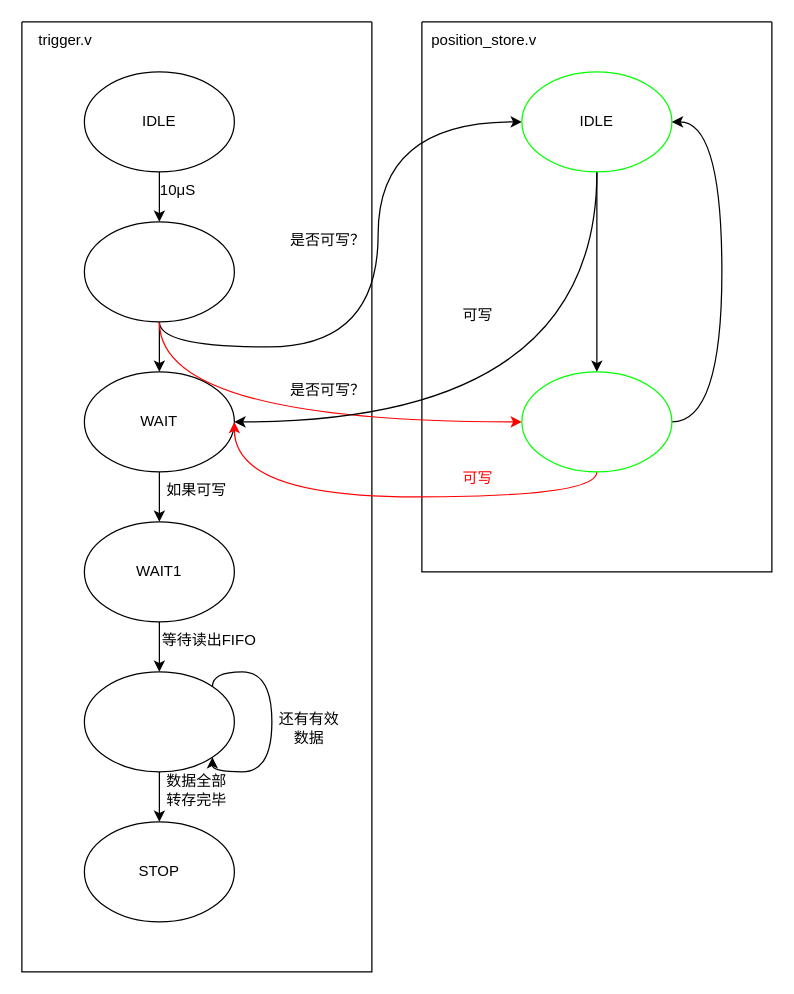
The diagram is 794 pixels wide and 994 high, and some of its shapes have lost their labels. The shapes that lost their labels are listed below. From the top down, each one's centre as x and y in pixels, then its label:
At pixel 158 271: "FIFO_CHECK".
At pixel 596 421: "STORE_WRITE_A".
At pixel 158 721: "STORE".
